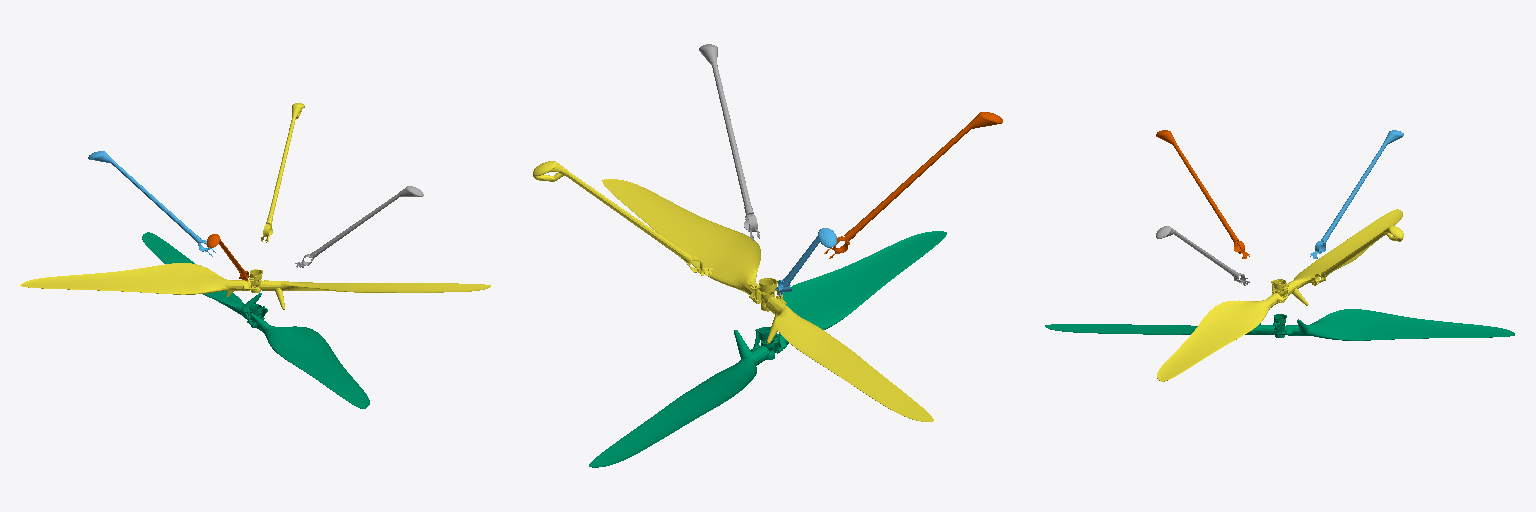
The robot description file, URDF, robot "robot":
<?xml version='1.0' encoding='utf-8'?>
<robot name="">
	<link name="root">
		<inertial>
			<origin xyz="0 0 0" rpy="0 -0 0" />
			<mass value="0" />
			<inertia ixx="0" ixy="0" ixz="0" iyy="0" iyz="0" izz="0" />
		</inertial>
	</link>
	<link name="Body_MHS_MainBody_v16">
		<inertial>
			<origin xyz="0 0 0" rpy="0 -0 0" />
			<mass value="1.8" />
			<inertia ixx="0.00067" ixy="0" ixz="0" iyy="0.00068" iyz="0" izz="0.00028" />
		</inertial>
		<visual name="VisGeom_MHS_MainBody_v16">
			<origin xyz="0 0 0" rpy="0 -0 0" />
			<geometry>
				<mesh filename="./meshes/MHS_MainBody_v16.obj" scale="1 1 1" />
			</geometry>
		</visual>
	<collision><origin xyz="0 0 0" rpy="0 -0 0" /><geometry><mesh filename="./meshes/MHS_MainBody_v16.obj" scale="1 1 1" />
			</geometry></collision></link>
	<link name="Body_MHS_TopBlades_v16">
		<inertial>
			<origin xyz="0 0 0" rpy="0 -0 0" />
			<mass value="1e-06" />
			<inertia ixx="1e-06" ixy="0" ixz="0" iyy="1e-06" iyz="0" izz="1e-06" />
		</inertial>
		<visual name="VisGeom_MHS_TopBlades_v16">
			<origin xyz="0 0 0" rpy="0 -0 0" />
			<geometry>
				<mesh filename="./meshes/MHS_TopBlades_v16.obj" scale="1 1 1" />
			</geometry>
		</visual>
	<collision><origin xyz="0 0 0" rpy="0 -0 0" /><geometry><mesh filename="./meshes/MHS_TopBlades_v16.obj" scale="1 1 1" />
			</geometry></collision></link>
	<link name="Body_MHS_BottomBlades_v16">
		<inertial>
			<origin xyz="0 0 0" rpy="0 -0 0" />
			<mass value="1e-06" />
			<inertia ixx="1e-06" ixy="0" ixz="0" iyy="1e-06" iyz="0" izz="1e-06" />
		</inertial>
		<visual name="VisGeom_MHS_BottomBlades_v16">
			<origin xyz="0 0 0" rpy="0 -0 0" />
			<geometry>
				<mesh filename="./meshes/MHS_BottomBlades_v16.obj" scale="1 1 1" />
			</geometry>
		</visual>
	<collision><origin xyz="0 0 0" rpy="0 -0 0" /><geometry><mesh filename="./meshes/MHS_BottomBlades_v16.obj" scale="1 1 1" />
			</geometry></collision></link>
	<link name="Body_Joint_Leg02_Axis">
		<inertial>
			<origin xyz="0 0 0" rpy="0 -0 0" />
			<mass value="1e-06" />
			<inertia ixx="1e-06" ixy="0" ixz="0" iyy="1e-06" iyz="0" izz="1e-06" />
		</inertial>
	</link>
	<link name="Body_MHS_Leg02_v16">
		<inertial>
			<origin xyz="0 0 0" rpy="0 -0 0" />
			<mass value="1e-06" />
			<inertia ixx="1e-06" ixy="0" ixz="0" iyy="1e-06" iyz="0" izz="1e-06" />
		</inertial>
		<visual name="VisGeom_MHS_Leg02_v16">
			<origin xyz="0 0 0" rpy="0 -0 0" />
			<geometry>
				<mesh filename="./meshes/MHS_Leg02_v16.obj" scale="1 1 1" />
			</geometry>
		</visual>
	<collision><origin xyz="0 0 0" rpy="0 -0 0" /><geometry><mesh filename="./meshes/MHS_Leg02_v16.obj" scale="1 1 1" />
			</geometry></collision></link>
	<link name="Body_Joint_Leg01_Axis">
		<inertial>
			<origin xyz="0 0 0" rpy="0 -0 0" />
			<mass value="1e-06" />
			<inertia ixx="1e-06" ixy="0" ixz="0" iyy="1e-06" iyz="0" izz="1e-06" />
		</inertial>
	</link>
	<link name="Body_MHS_Leg01_v16">
		<inertial>
			<origin xyz="0 0 0" rpy="0 -0 0" />
			<mass value="1e-06" />
			<inertia ixx="1e-06" ixy="0" ixz="0" iyy="1e-06" iyz="0" izz="1e-06" />
		</inertial>
		<visual name="VisGeom_MHS_Leg01_v16">
			<origin xyz="0 0 0" rpy="0 -0 0" />
			<geometry>
				<mesh filename="./meshes/MHS_Leg01_v16.obj" scale="1 1 1" />
			</geometry>
		</visual>
	<collision><origin xyz="0 0 0" rpy="0 -0 0" /><geometry><mesh filename="./meshes/MHS_Leg01_v16.obj" scale="1 1 1" />
			</geometry></collision></link>
	<link name="Body_Joint_Leg03_Axis">
		<inertial>
			<origin xyz="0 0 0" rpy="0 -0 0" />
			<mass value="1e-06" />
			<inertia ixx="1e-06" ixy="0" ixz="0" iyy="1e-06" iyz="0" izz="1e-06" />
		</inertial>
	</link>
	<link name="Body_MHS_Leg03_v16">
		<inertial>
			<origin xyz="0 0 0" rpy="0 -0 0" />
			<mass value="1e-06" />
			<inertia ixx="1e-06" ixy="0" ixz="0" iyy="1e-06" iyz="0" izz="1e-06" />
		</inertial>
		<visual name="VisGeom_MHS_Leg03_v16">
			<origin xyz="0 0 0" rpy="0 -0 0" />
			<geometry>
				<mesh filename="./meshes/MHS_Leg03_v16.obj" scale="1 1 1" />
			</geometry>
		</visual>
	<collision><origin xyz="0 0 0" rpy="0 -0 0" /><geometry><mesh filename="./meshes/MHS_Leg03_v16.obj" scale="1 1 1" />
			</geometry></collision></link>
	<link name="Body_Joint_Leg04_Axis">
		<inertial>
			<origin xyz="0 0 0" rpy="0 -0 0" />
			<mass value="1e-06" />
			<inertia ixx="1e-06" ixy="0" ixz="0" iyy="1e-06" iyz="0" izz="1e-06" />
		</inertial>
	</link>
	<link name="Body_MHS_Leg04_v16">
		<inertial>
			<origin xyz="0 0 0" rpy="0 -0 0" />
			<mass value="1e-06" />
			<inertia ixx="1e-06" ixy="0" ixz="0" iyy="1e-06" iyz="0" izz="1e-06" />
		</inertial>
		<visual name="VisGeom_MHS_Leg04_v16">
			<origin xyz="0 0 0" rpy="0 -0 0" />
			<geometry>
				<mesh filename="./meshes/MHS_Leg04_v16.obj" scale="1 1 1" />
			</geometry>
		</visual>
	<collision><origin xyz="0 0 0" rpy="0 -0 0" /><geometry><mesh filename="./meshes/MHS_Leg04_v16.obj" scale="1 1 1" />
			</geometry></collision></link>
	<link name="Frame_MHS_NAVCAM"><inertial><origin xyz="0 0 0" rpy="0 0 0" /><mass value="1e-06" /><inertia ixx="1e-06" ixy="0" ixz="0" iyy="1e-06" iyz="0" izz="1e-06" /></inertial></link>
	<joint name="MHS_MainBody_v16" type="floating">
		<origin xyz="0 0 0" rpy="0 -0 0" />
		<parent link="root" />
		<child link="Body_MHS_MainBody_v16" />
	</joint>
	<joint name="MHS_TopBlades_v16" type="revolute">
		<origin xyz="0 0 0" rpy="0 -0 0" />
		<parent link="Body_MHS_MainBody_v16" />
		<child link="Body_MHS_TopBlades_v16" />
		<axis xyz="0 0 1" />
		<limit lower="-1.79769e+308" upper="1.79769e+308" effort="1.79769e+308" velocity="1.79769e+308" />
	</joint>
	<joint name="MHS_BottomBlades_v16" type="revolute">
		<origin xyz="0 0 0" rpy="0 -0 0.994839" />
		<parent link="Body_MHS_MainBody_v16" />
		<child link="Body_MHS_BottomBlades_v16" />
		<axis xyz="0 0 1" />
		<limit lower="-1.79769e+308" upper="1.79769e+308" effort="1.79769e+308" velocity="1.79769e+308" />
	</joint>
	<joint name="Joint_Leg02_Axis" type="revolute">
		<origin xyz="-0.0799965 -0.0899998 0.013566" rpy="-0.0338305 -0.721918 0.0511692" />
		<parent link="Body_MHS_MainBody_v16" />
		<child link="Body_Joint_Leg02_Axis" />
		<axis xyz="-1 0 0" />
		<limit lower="-1.79769e+308" upper="1.79769e+308" effort="1.79769e+308" velocity="1.79769e+308" />
	</joint>
	<joint name="MHS_Leg02_v16" type="fixed">
		<origin xyz="0.0544521 0.0879744 -0.0630787" rpy="1.11631e-09 0.722567 -0.0383972" />
		<parent link="Body_Joint_Leg02_Axis" />
		<child link="Body_MHS_Leg02_v16" />
	</joint>
	<joint name="Joint_Leg01_Axis" type="revolute">
		<origin xyz="0.0804546 -0.0897671 0.013368" rpy="0.180504 0.364465 0.473174" />
		<parent link="Body_MHS_MainBody_v16" />
		<child link="Body_Joint_Leg01_Axis" />
		<axis xyz="-1 0 0" />
		<limit lower="-1.79769e+308" upper="1.79769e+308" effort="1.79769e+308" velocity="1.79769e+308" />
	</joint>
	<joint name="MHS_Leg01_v16" type="fixed">
		<origin xyz="-0.0239246 0.110467 -0.0439815" rpy="-5.70219e-08 -0.404917 -0.439824" />
		<parent link="Body_Joint_Leg01_Axis" />
		<child link="Body_MHS_Leg01_v16" />
	</joint>
	<joint name="Joint_Leg03_Axis" type="revolute">
		<origin xyz="-0.0799965 0.0899998 0.013566" rpy="0.0338306 -0.721918 -0.0511692" />
		<parent link="Body_MHS_MainBody_v16" />
		<child link="Body_Joint_Leg03_Axis" />
		<axis xyz="-1 0 0" />
		<limit lower="-1.79769e+308" upper="1.79769e+308" effort="1.79769e+308" velocity="1.79769e+308" />
	</joint>
	<joint name="MHS_Leg03_v16" type="fixed">
		<origin xyz="0.0544521 -0.0879744 -0.0630787" rpy="9.26579e-09 0.722567 0.0383972" />
		<parent link="Body_Joint_Leg03_Axis" />
		<child link="Body_MHS_Leg03_v16" />
	</joint>
	<joint name="Joint_Leg04_Axis" type="revolute">
		<origin xyz="0.0804546 0.0898284 0.013315" rpy="6.77871e-07 0.460765 -0.364774" />
		<parent link="Body_MHS_MainBody_v16" />
		<child link="Body_Joint_Leg04_Axis" />
		<axis xyz="-1 0 0" />
		<limit lower="-1.79769e+308" upper="1.79769e+308" effort="1.79769e+308" velocity="1.79769e+308" />
	</joint>
	<joint name="MHS_Leg04_v16" type="fixed">
		<origin xyz="-0.032699 -0.112619 -0.0310971" rpy="-0.175269 -0.428359 0.402991" />
		<parent link="Body_Joint_Leg04_Axis" />
		<child link="Body_MHS_Leg04_v16" />
	</joint>
	<joint name="MHS_NAVCAM" type="fixed">
		<origin xyz="0.0 0.0616891 0.13743" rpy="-0.0027478 0.0580433 -1.57391594" />
		<parent link="Body_MHS_MainBody_v16" />
		<child link="Frame_MHS_NAVCAM" />
	</joint>
</robot>

--- Facts derived from the render (not from the file) ---
The picture shows the robot from 3 angles, left to right: view 1: azimuth 30°, elevation 25°; view 2: azimuth 150°, elevation 25°; view 3: azimuth 270°, elevation 25°; orthographic projection.
Model robot with 13 links and 12 joints (6 revolute, 5 fixed, 1 floating), rooted at root, posed all joints at 0.
Links seen in each view (by area): view 1: Body_MHS_BottomBlades_v16, Body_MHS_TopBlades_v16, Body_MHS_Leg03_v16, Body_MHS_Leg01_v16, Body_MHS_Leg04_v16; view 2: Body_MHS_BottomBlades_v16, Body_MHS_TopBlades_v16, Body_MHS_Leg04_v16, Body_MHS_Leg02_v16, Body_MHS_Leg01_v16, Body_MHS_Leg03_v16; view 3: Body_MHS_TopBlades_v16, Body_MHS_BottomBlades_v16, Body_MHS_Leg02_v16, Body_MHS_Leg03_v16, Body_MHS_Leg04_v16, Body_MHS_Leg01_v16.
Boxes of the visible links, box(x1,y1,x2,y2) form: Body_MHS_BottomBlades_v16: box(20, 263, 490, 309); Body_MHS_TopBlades_v16: box(142, 232, 369, 408); Body_MHS_Leg03_v16: box(88, 151, 215, 256); Body_MHS_Leg01_v16: box(295, 186, 423, 267); Body_MHS_Leg04_v16: box(261, 103, 304, 242); Body_MHS_BottomBlades_v16: box(602, 179, 933, 421); Body_MHS_TopBlades_v16: box(589, 231, 946, 467); Body_MHS_Leg04_v16: box(533, 161, 712, 275); Body_MHS_Leg02_v16: box(824, 112, 1002, 258); Body_MHS_Leg01_v16: box(699, 44, 759, 240); Body_MHS_Leg03_v16: box(775, 228, 836, 295); Body_MHS_TopBlades_v16: box(1045, 309, 1514, 340); Body_MHS_BottomBlades_v16: box(1157, 209, 1402, 381); Body_MHS_Leg02_v16: box(1156, 130, 1249, 258); Body_MHS_Leg03_v16: box(1310, 130, 1403, 258); Body_MHS_Leg04_v16: box(1310, 226, 1403, 285); Body_MHS_Leg01_v16: box(1156, 226, 1249, 285).
Bounding box of the posed robot: 1.05 × 1.21 × 0.4455 m (x, y, z).
6 mesh visuals loaded from 7 distinct referenced files (6 OBJ); not drawn: 1 (reference not matched to a file when rendering).
